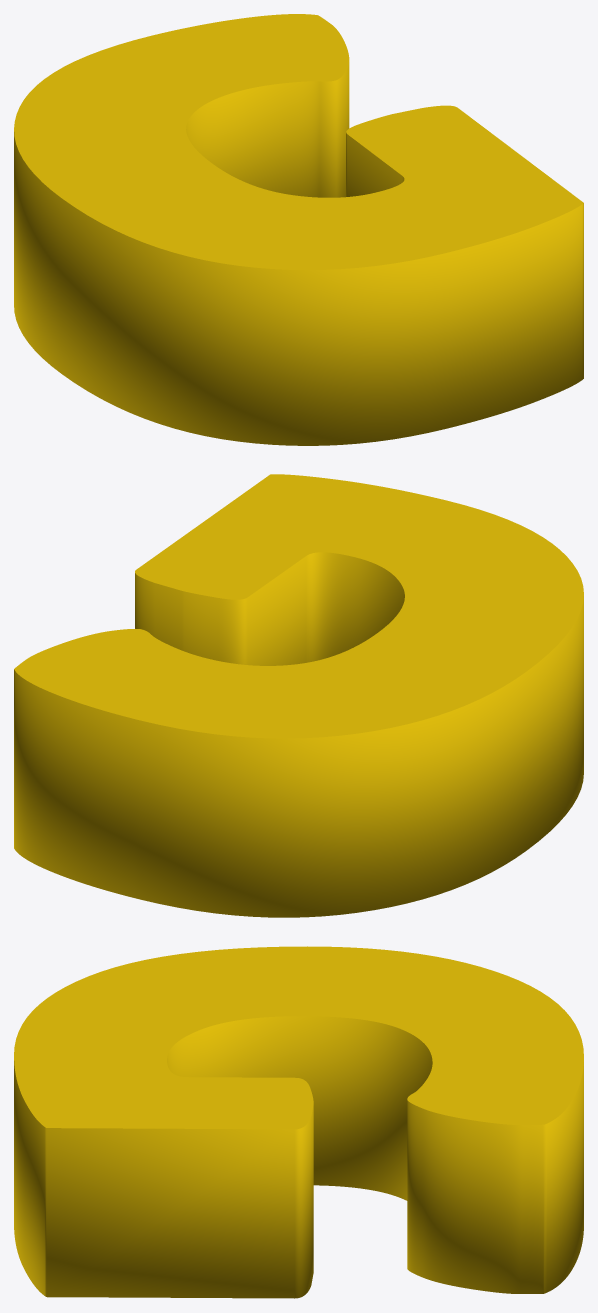
3 renders of one model, top to bottom at view 1: azimuth 30°, elevation 25°; view 2: azimuth 150°, elevation 25°; view 3: azimuth 270°, elevation 25°, orthographic. The views are drawn at different scales.
Visible parts, largest first — view 1: g; view 2: g; view 3: g.
Part boxes in pixels (x1,y1,x2,y2): g: [14, 14, 583, 445]; g: [14, 474, 583, 917]; g: [14, 946, 583, 1298].
Bounding box in the file's own units: 0.2799 × 0.1206 × 0.3685.
